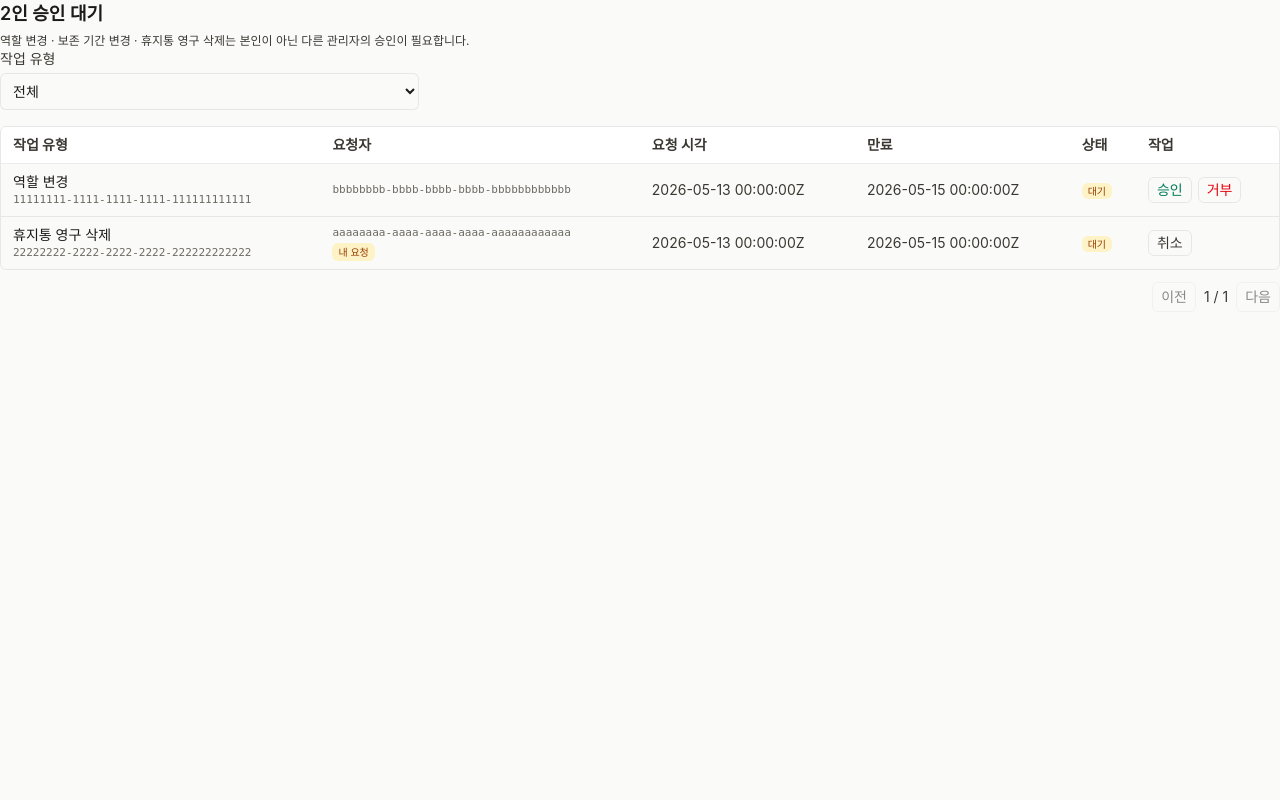
Test case: AdminApprovalsPage — 렌더 + 필터 › 거부 클릭 → DecisionDialog + 사유 비어있으면 확인 disabled
Click the button with aria-label "역할 변경 거부" at (1220, 190), box [1198, 177, 1242, 203]
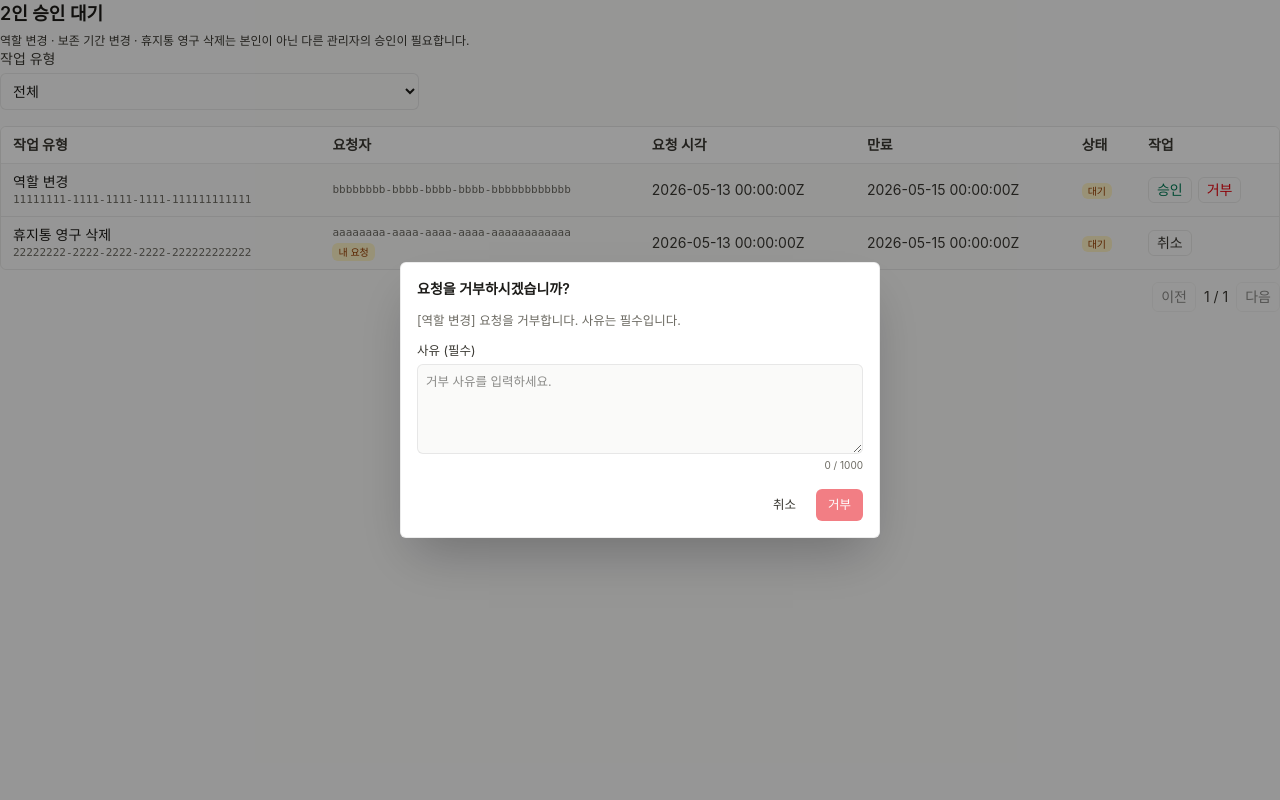
Check: the dialog "요청을 거부" is shown
Check: the button "거부" is disabled, box [816, 489, 863, 521]
# 사유 입력 후 활성화
Type "denied" into the text box named "결정 사유" at (640, 409), box [417, 364, 863, 454]
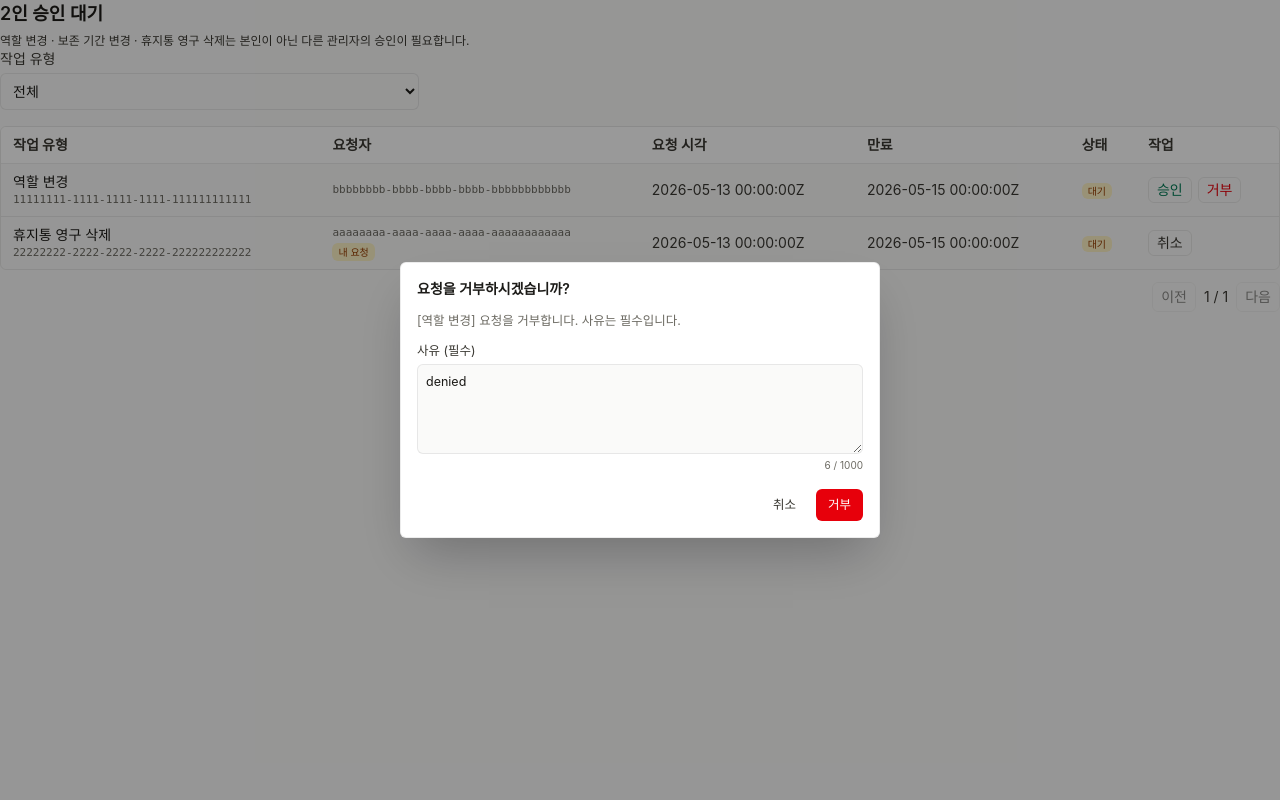
Check: the button "거부" is enabled, box [816, 489, 863, 521]
